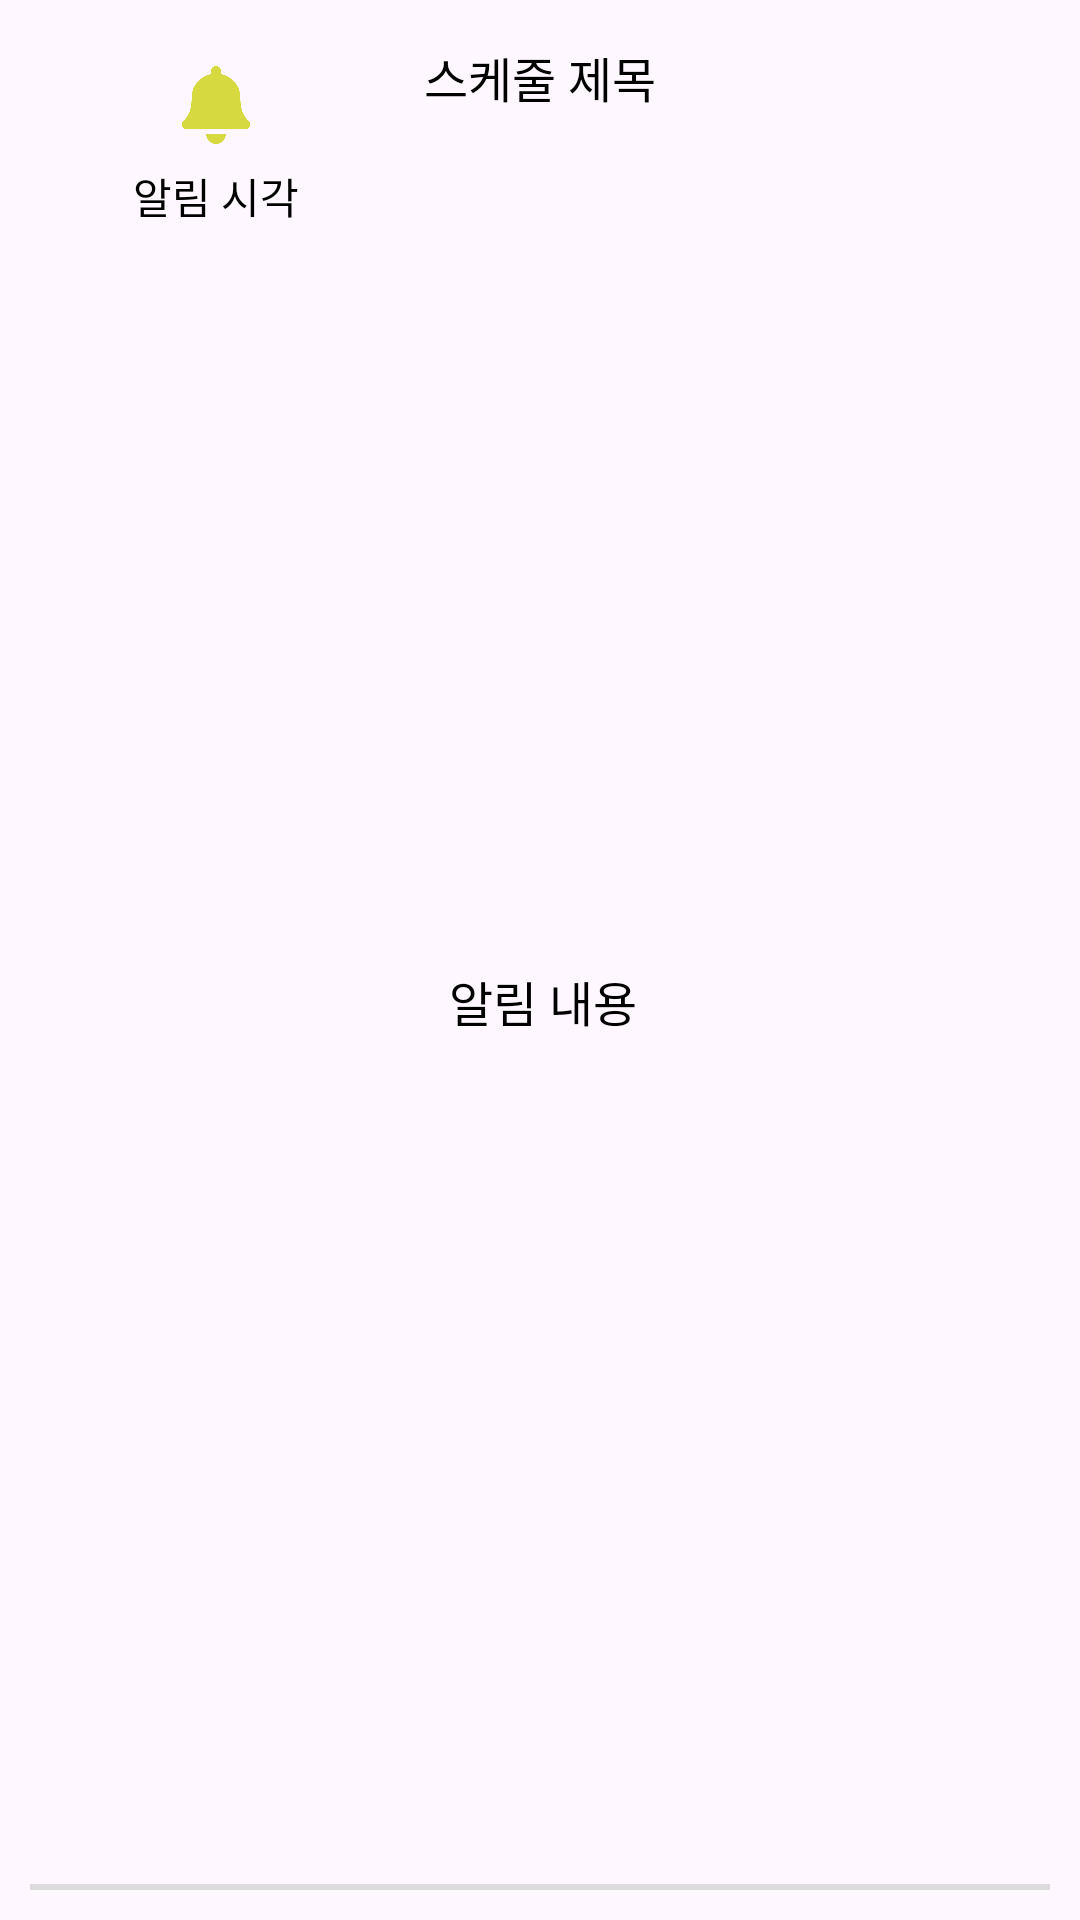

Screen size 1080 x 1920. Icon name, then its center in pixels as [x,y]:
bellon: [216,105]
